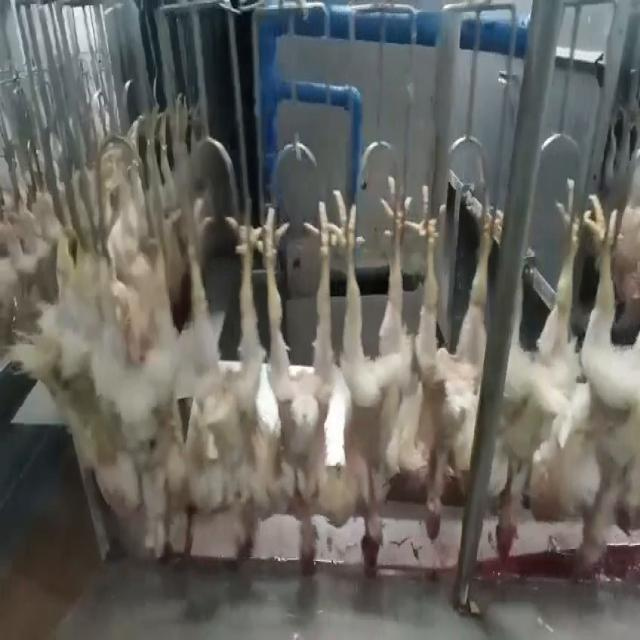chicken: (495, 179, 585, 572), (259, 185, 344, 574), (405, 188, 495, 539), (330, 179, 407, 582), (193, 198, 263, 568), (135, 206, 197, 570), (575, 197, 632, 580)
